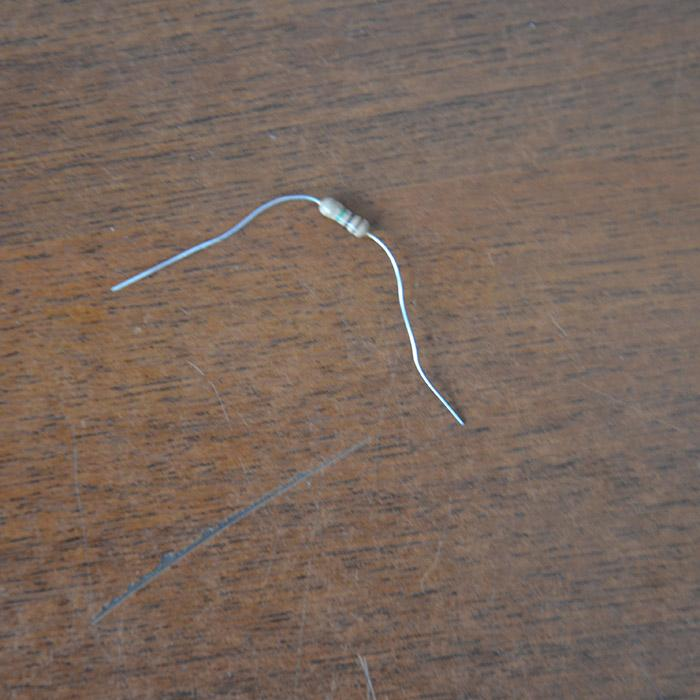resistor: (317, 196, 370, 238)
